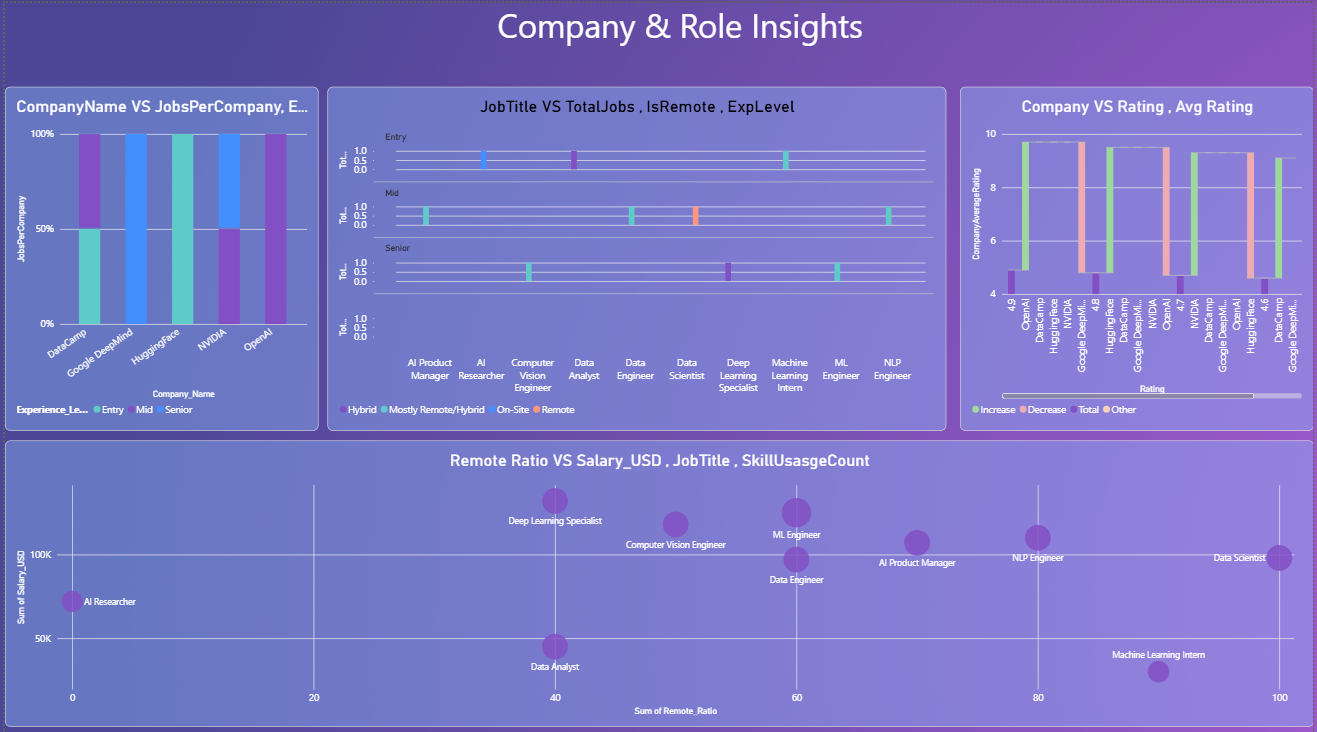

What the dashboard file says about the page in this screenshot:
{"tool":"powerbi","page":{"name":"Company and Role Insights","canvas":[1920,1080],"ordinal":2},"visuals":[{"type":"textbox","box":[722.7,0,557.6,69.7],"z":0},{"type":"hundredPercentStackedColumnChart","title":"CompanyName VS JobsPerCompany, Experience Level","fields":{"Category":["Dim_Companies.Company_Name"],"Series":["Fact_Jobs.Experience_Level"],"Y":["Dim_Companies.JobsPerCompany"]},"box":[0,163.2,519.1,376],"z":1000},{"type":"clusteredColumnChart","title":"JobTitle VS TotalJobs , IsRemote , ExpLevel","fields":{"Category":["Fact_Jobs.Job_Title"],"Rows":["Fact_Jobs.Experience_Level"],"Series":["Fact_Jobs.IsRemote"],"Y":["Fact_Jobs.TotalJobs"]},"box":[542.9,163.2,845.6,376],"z":2000},{"type":"waterfallChart","title":"Company VS Rating , Avg Rating","fields":{"Breakdown":["Dim_Companies.Company_Name"],"Category":["Dim_Companies.Rating"],"Y":["Dim_Companies.CompanyAverageRating"]},"box":[1406.9,163.2,500.7,370.5],"z":3000},{"type":"scatterChart","title":"Remote Ratio VS Salary_USD , JobTitle , SkillUsasgeCount","fields":{"Category":["Fact_Jobs.Job_Title"],"Size":["Dim_Skills.SkillUsageCount"],"X":["Sum(Fact_Jobs.Remote_Ratio)"],"Y":["Sum(Fact_Jobs.Salary_USD)"]},"box":[0,574.1,1920.5,487.9],"z":3001}]}

Visuals, with their boxes in screenshot pixels (x1, y1, x2, y2), scaled from the page's 1920x1080 canvas onto the 1317x732 screenshot:
textbox: [left=496, top=0, right=878, bottom=47]
"CompanyName VS JobsPerCompany, Experience Level" hundredPercentStackedColumnChart: [left=0, top=111, right=356, bottom=365]
"JobTitle VS TotalJobs , IsRemote , ExpLevel" clusteredColumnChart: [left=372, top=111, right=952, bottom=365]
"Company VS Rating , Avg Rating" waterfallChart: [left=965, top=111, right=1308, bottom=362]
"Remote Ratio VS Salary_USD , JobTitle , SkillUsasgeCount" scatterChart: [left=0, top=389, right=1316, bottom=720]
